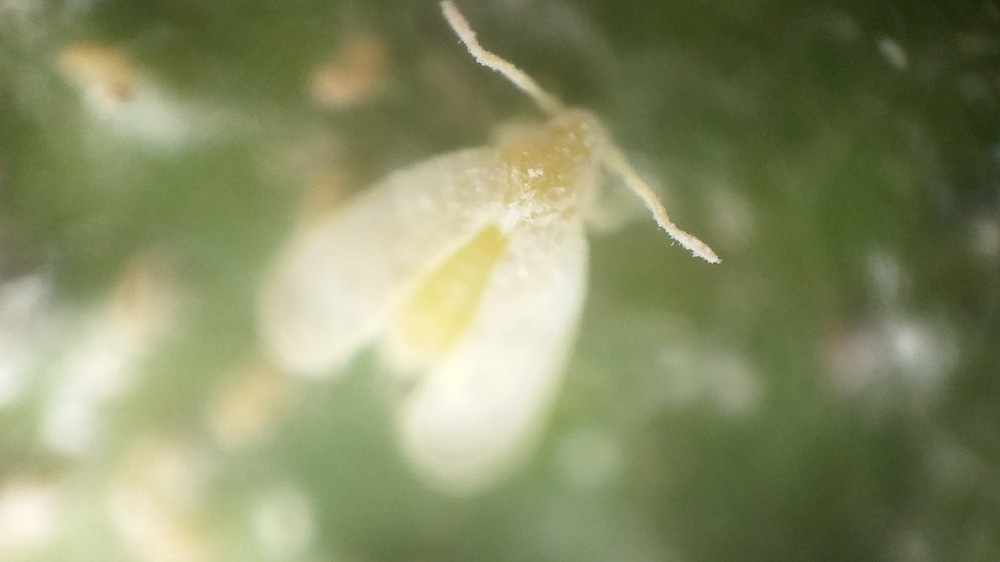Mosca Blanca: (250, 5, 731, 511)
